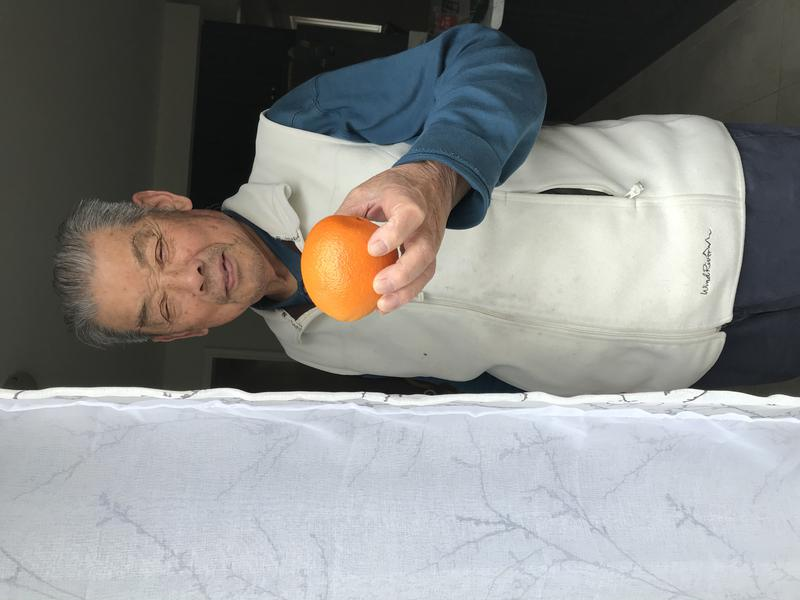orange: (297, 213, 418, 328)
